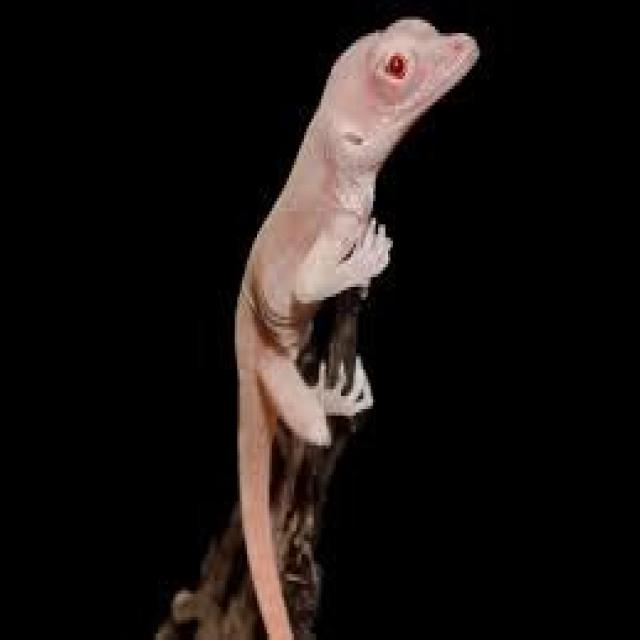lizard: (237, 16, 477, 637)
